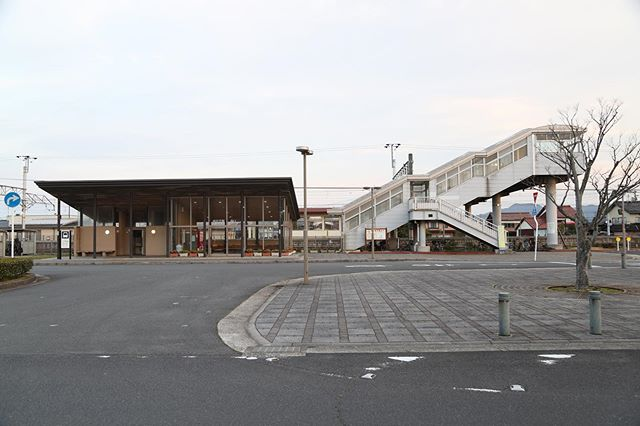building: (349, 127, 578, 247), (58, 174, 300, 254)
sidewalk: (281, 270, 640, 346)
sky: (5, 1, 640, 172)
street: (3, 257, 245, 424)
tree: (532, 114, 629, 294)
